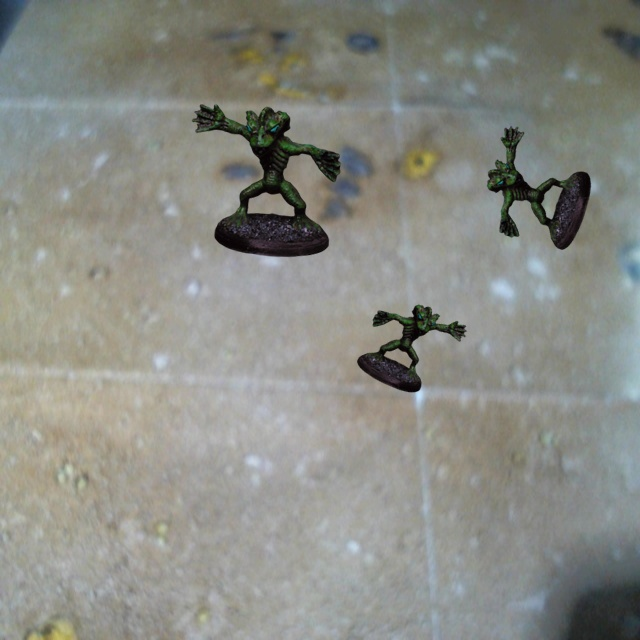pieza_juego: (192, 104, 340, 256), (487, 126, 590, 249), (357, 305, 466, 392)
